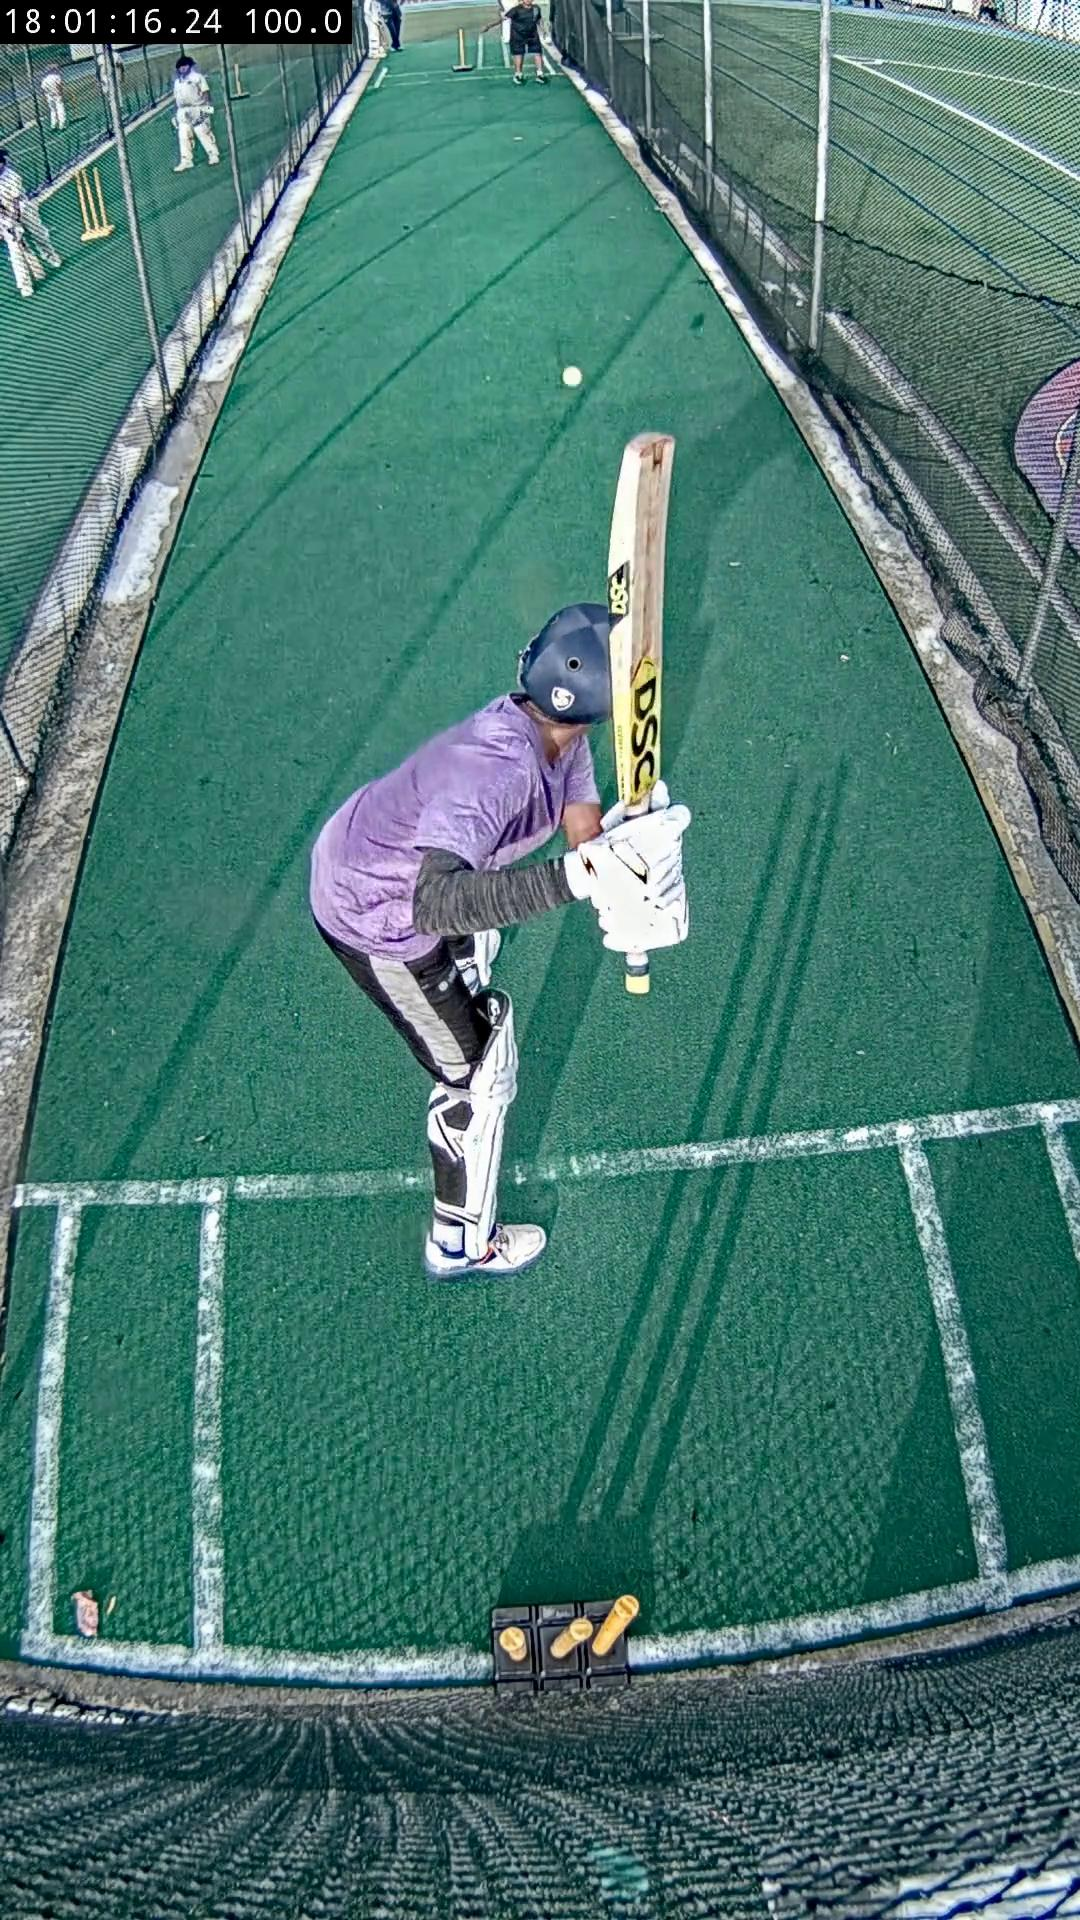ball: (563, 368, 582, 386)
bat: (608, 431, 675, 812), (626, 952, 649, 992)
gloves: (563, 806, 690, 952)
helmet: (517, 604, 612, 724)
pads: (458, 990, 517, 1261)
stumps: (492, 1594, 641, 1695)
